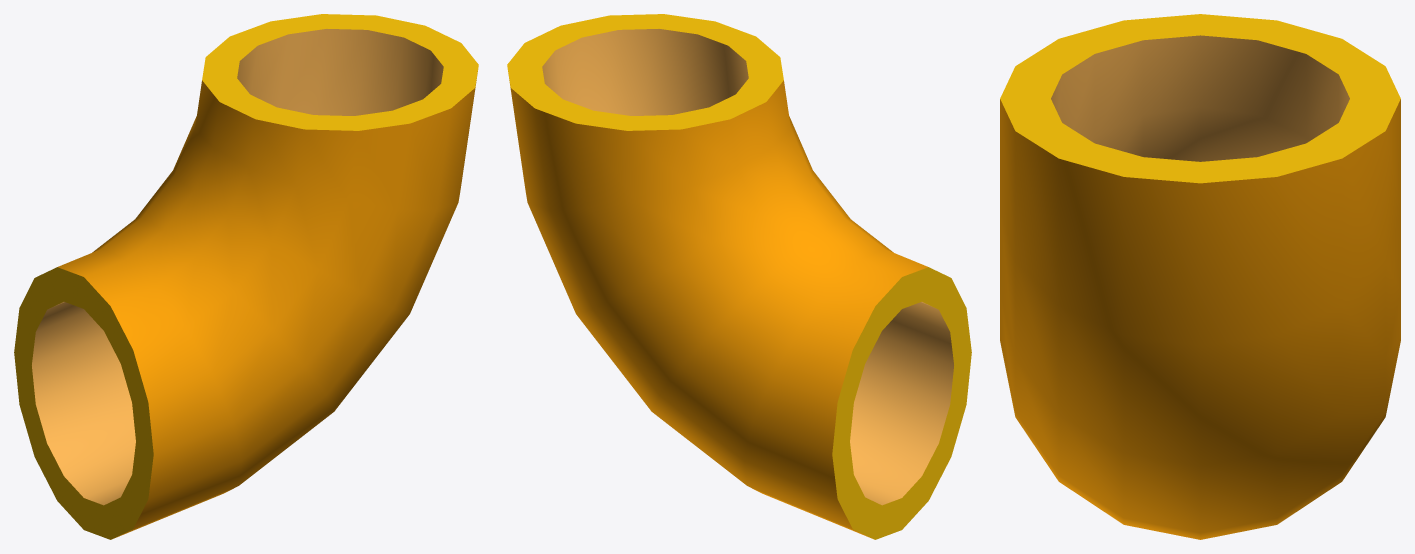
File: D_FBX_05_Pipe_01.fbx
3 views of the same model, side by side, from view 1: azimuth 30°, elevation 25°; view 2: azimuth 150°, elevation 25°; view 3: azimuth 270°, elevation 25° (orthographic). The views are drawn at different scales.
Parts seen in each view (by area): view 1: D_FBX_05_Pipe_01; view 2: D_FBX_05_Pipe_01; view 3: D_FBX_05_Pipe_01.
Part boxes in pixels (x1=…): D_FBX_05_Pipe_01: x1=14, y1=14, x2=478, y2=539; D_FBX_05_Pipe_01: x1=507, y1=14, x2=971, y2=539; D_FBX_05_Pipe_01: x1=1000, y1=14, x2=1400, y2=539.
Size of the model in its own units: 234 by 234 by 150.
